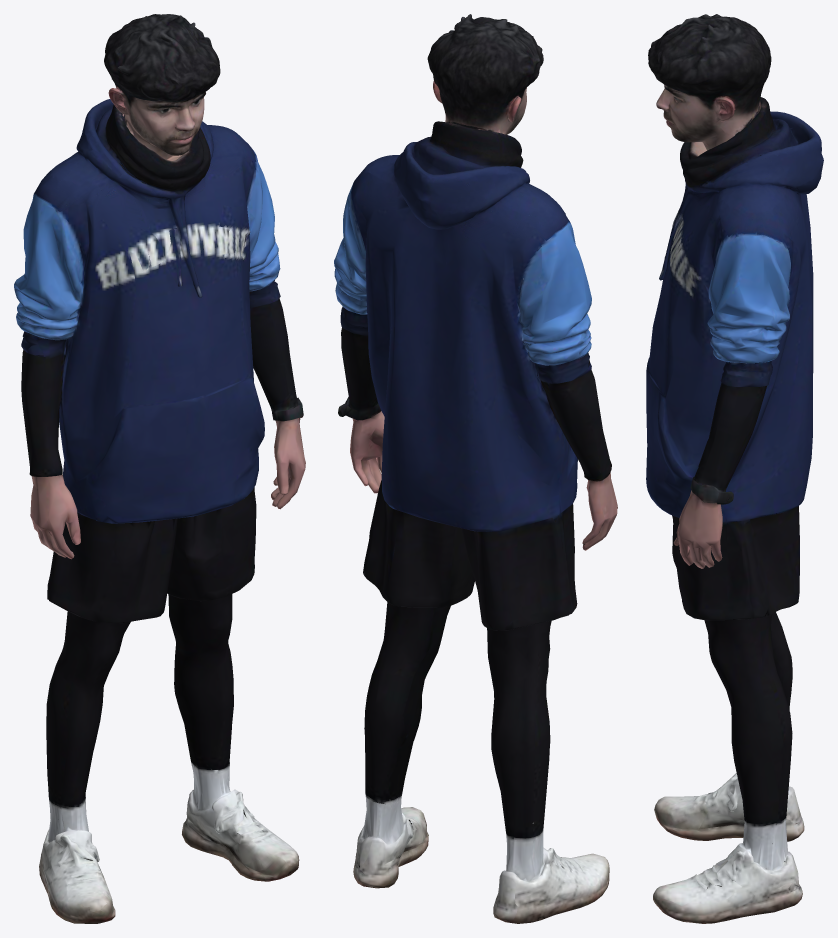
File: harry.glb
3 views of the same model, side by side, from view 1: azimuth 30°, elevation 25°; view 2: azimuth 150°, elevation 25°; view 3: azimuth 270°, elevation 25° (orthographic). The views are drawn at different scales.
Parts seen in each view (by area): view 1: tommy; view 2: tommy; view 3: tommy.
Part boxes in pixels (x1,y1,x2,y2): tommy: (14,14,305,923); tommy: (334,14,617,923); tommy: (646,14,823,923).
Bounding box in the file's own units: 0.5864 × 1.83 × 0.3451.
1 material, 1 textured.
